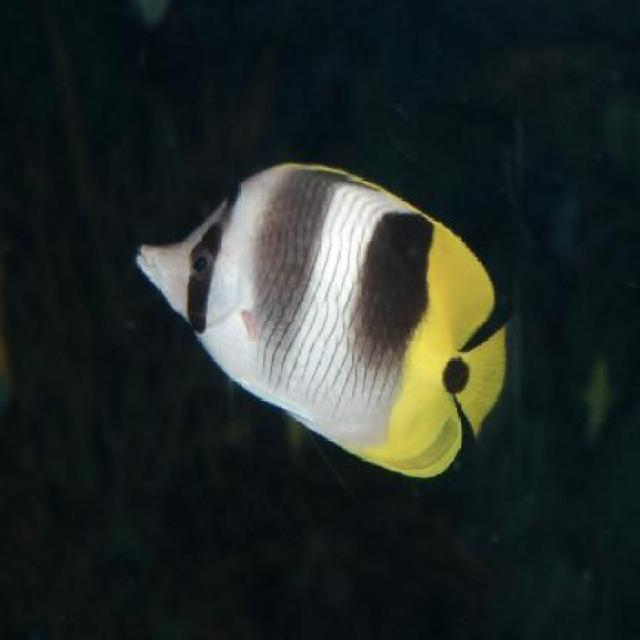ButterflyFish: (135, 162, 518, 486)
